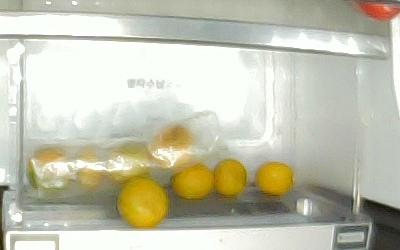tangerine: (116, 176, 168, 228), (171, 164, 213, 199), (256, 162, 295, 195), (213, 158, 245, 196)
tangerine_vinyl: (152, 125, 194, 170), (107, 142, 150, 182), (27, 149, 68, 190), (75, 148, 100, 188)
